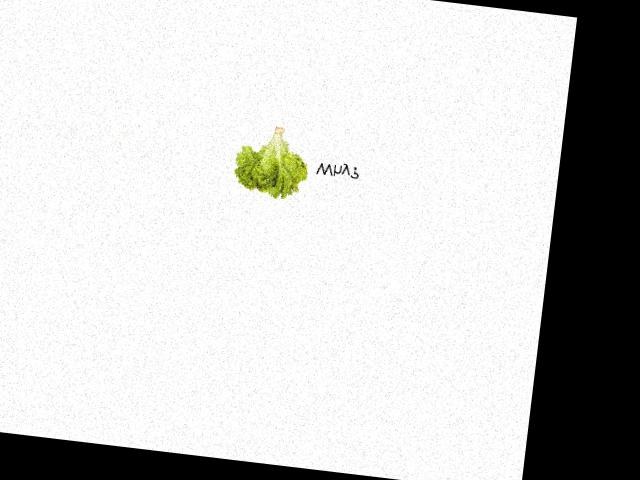lettuce: (229, 120, 319, 203)
